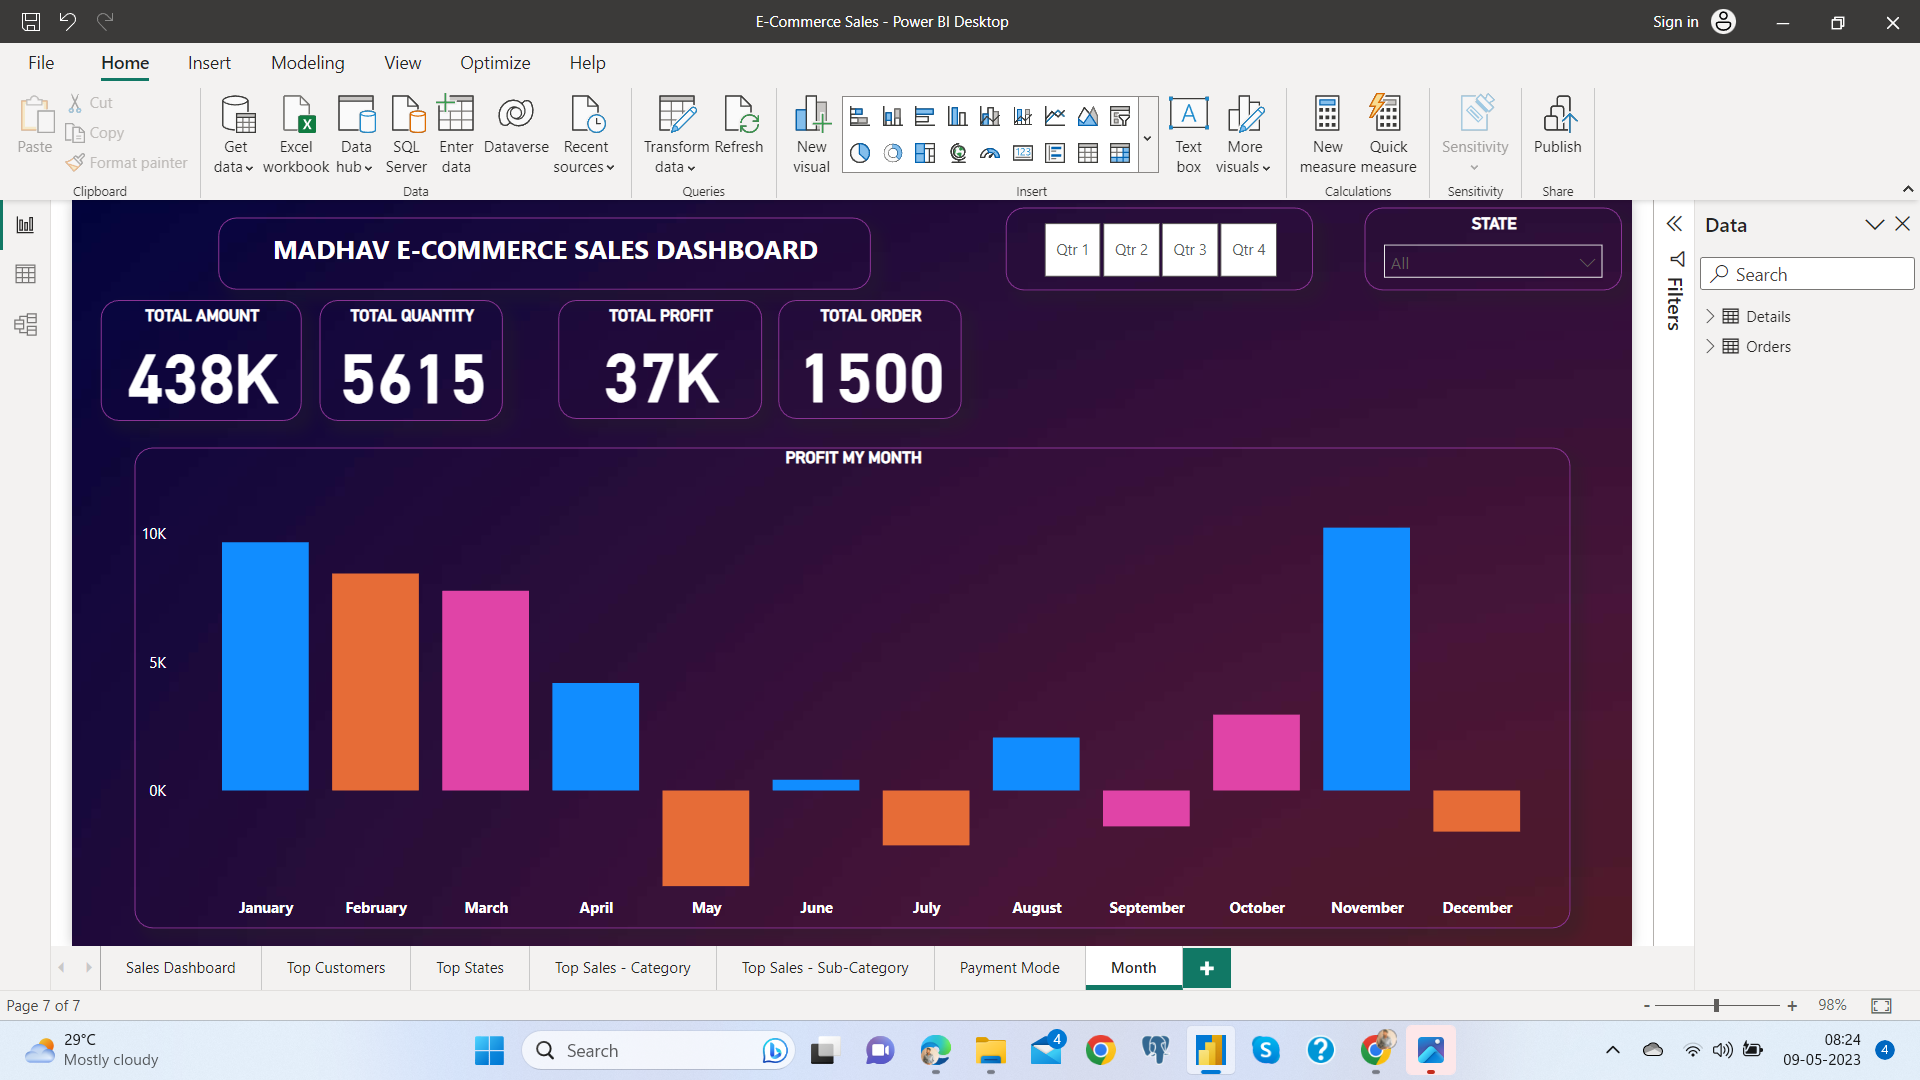

The dashboard page shown, as its layout file describes it:
{"tool":"powerbi","page":{"name":"Month","canvas":[1280,612],"ordinal":6},"visuals":[{"type":"textbox","box":[119.9,14.4,535.1,59.5],"z":0},{"type":"columnChart","title":"PROFIT MY MONTH","fields":{"Y":["Sum(Details.Profit)"],"Category":["Orders.Order Date.Variation.Date Hierarchy.Month"]},"box":[51.3,203,1177.9,394.7],"z":1000},{"type":"card","title":"TOTAL AMOUNT","fields":{"Values":["Sum(Details.Amount)"]},"box":[23.6,82,165,99.4],"z":5000},{"type":"card","title":"TOTAL QUANTITY","fields":{"Values":["Sum(Details.Quantity)"]},"box":[203,82,150.7,99.4],"z":6000},{"type":"card","title":"TOTAL PROFIT","fields":{"Values":["Sum(Details.Profit)"]},"box":[398.8,82,167.1,97.4],"z":7000},{"type":"slicer","fields":{"Values":["Orders.Order Date.Variation.Date Hierarchy.Quarter"]},"box":[765.8,6.2,252.2,67.7],"z":10000},{"type":"slicer","title":"STATE","fields":{"Values":["Orders.State"]},"box":[1060,6.2,211.2,67.7],"z":11000},{"type":"card","title":"TOTAL ORDER","fields":{"Values":["CountNonNull(Details.Order ID)"]},"box":[579.2,82,150.7,97.4],"z":12000}]}

Visuals, with their boxes on the page's 1280x612 design canvas (x1, y1, x2, y2). These are canvas units, not pixel positions in the 1920x1080 screenshot, which may show the page scaled, cropped or inside an application window:
textbox: Rect(120, 14, 655, 74)
"PROFIT MY MONTH" columnChart: Rect(51, 203, 1229, 598)
"TOTAL AMOUNT" card: Rect(24, 82, 189, 181)
"TOTAL QUANTITY" card: Rect(203, 82, 354, 181)
"TOTAL PROFIT" card: Rect(399, 82, 566, 179)
slicer - Orders.Order Date.Variation.Date Hierarchy.Quarter: Rect(766, 6, 1018, 74)
"STATE" slicer: Rect(1060, 6, 1271, 74)
"TOTAL ORDER" card: Rect(579, 82, 730, 179)
